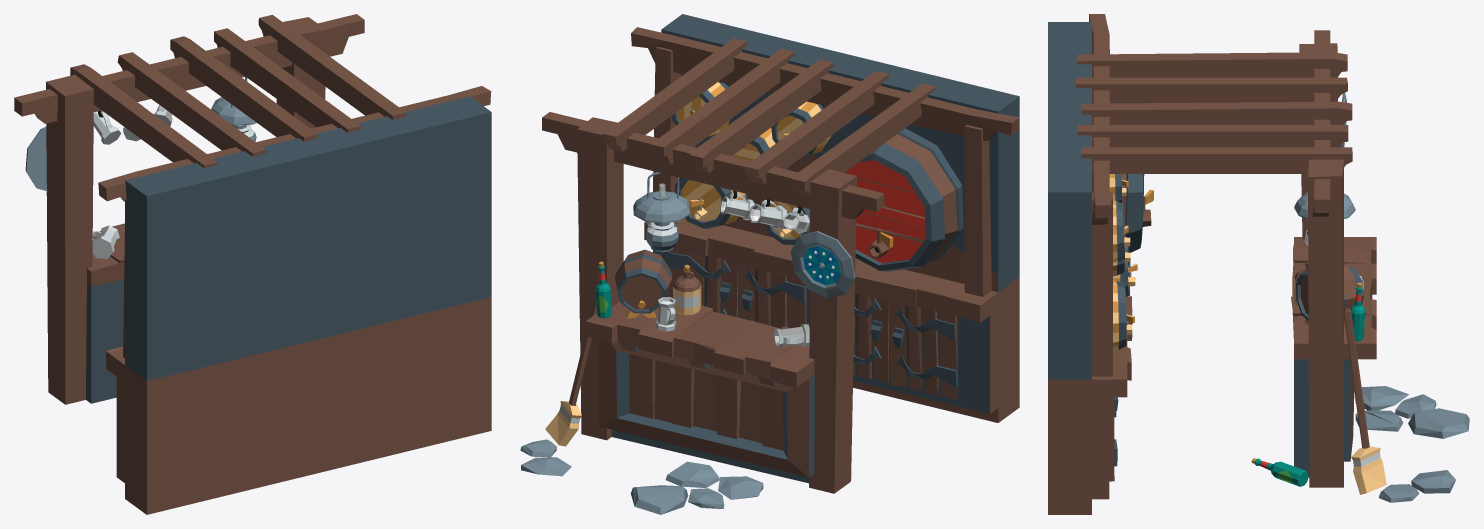
The model's file is tavern.fbx.
3 views of the same model, side by side, from view 1: azimuth 30°, elevation 25°; view 2: azimuth 150°, elevation 25°; view 3: azimuth 270°, elevation 25° (orthographic). The views are drawn at different scales.
Visible parts, largest first — view 1: group13159048; view 2: group13159048; view 3: group13159048.
Part boxes in pixels (x1,y1,x2,y2): group13159048: (14,14,491,514); group13159048: (520,14,1019,514); group13159048: (1048,14,1469,514).
Size of the model in its own units: 433 by 346 by 403.
